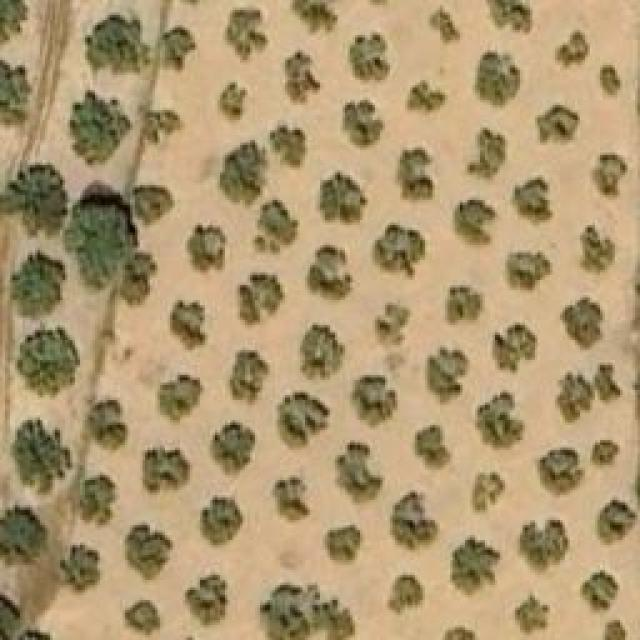Tree: (0, 143, 68, 233), (260, 582, 355, 640), (70, 205, 128, 290), (10, 417, 73, 495), (15, 328, 83, 398), (70, 90, 130, 165), (558, 363, 623, 426), (85, 15, 150, 73), (218, 140, 271, 208), (233, 273, 286, 336), (275, 392, 330, 450), (303, 245, 356, 305), (450, 535, 503, 595), (390, 490, 440, 553), (373, 222, 426, 280), (183, 570, 236, 628), (10, 255, 63, 313), (295, 322, 345, 380), (125, 522, 175, 580), (475, 392, 525, 450), (472, 50, 520, 110), (0, 505, 48, 565), (315, 173, 368, 226), (395, 148, 438, 213), (518, 520, 568, 575), (338, 443, 383, 503), (143, 448, 196, 498), (533, 448, 586, 498), (252, 200, 300, 255), (425, 347, 470, 405), (225, 347, 268, 405), (223, 10, 268, 63), (450, 198, 495, 251), (560, 298, 605, 351), (283, 50, 326, 105), (157, 375, 205, 423), (348, 30, 391, 83), (213, 420, 256, 473), (493, 323, 538, 373), (343, 103, 386, 153), (510, 178, 553, 228), (200, 498, 243, 548), (188, 220, 228, 273), (170, 295, 208, 350), (0, 60, 32, 125), (355, 377, 398, 425), (508, 250, 553, 295), (268, 120, 308, 170), (372, 298, 410, 348), (87, 398, 125, 448), (120, 253, 155, 306), (580, 570, 623, 613), (590, 152, 628, 200), (77, 475, 115, 523), (218, 80, 258, 125), (535, 105, 580, 145), (323, 525, 368, 565), (138, 110, 183, 150), (580, 225, 615, 275), (405, 78, 448, 118), (445, 285, 485, 328), (120, 598, 163, 638), (412, 425, 450, 470), (60, 545, 98, 590), (515, 595, 553, 640), (290, 0, 338, 35), (470, 130, 505, 178), (387, 573, 425, 616), (157, 25, 195, 68), (488, 0, 533, 35), (275, 478, 310, 523), (470, 473, 505, 516), (600, 500, 635, 540), (0, 0, 28, 48), (555, 28, 588, 68), (133, 188, 173, 221), (428, 5, 461, 43), (590, 440, 620, 468), (600, 63, 623, 98), (440, 625, 478, 640), (603, 620, 626, 640)
